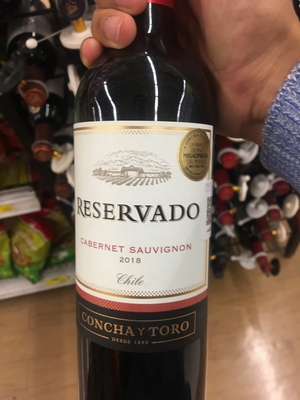reservado cabernet sauvignon: (63, 6, 219, 400)
